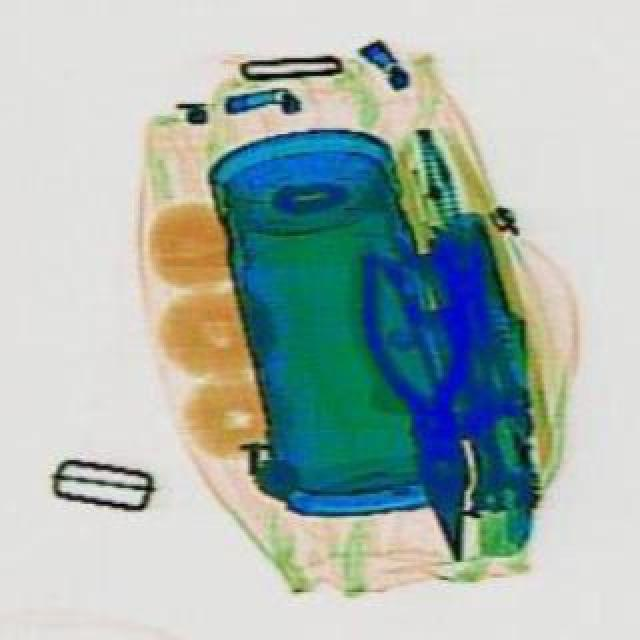wrench: (344, 238, 514, 568)
